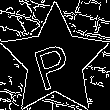P_N: (31, 32, 79, 90)
